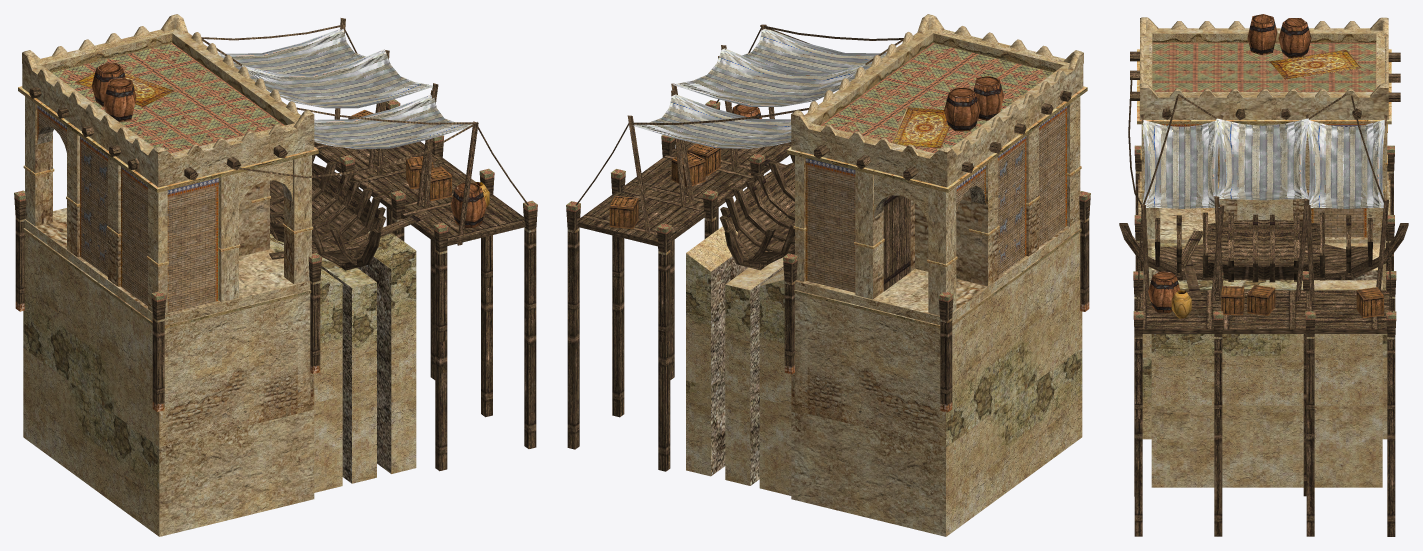
The model's file is pers_dock.glb.
3 renders of one model, left to right at view 1: azimuth 30°, elevation 25°; view 2: azimuth 150°, elevation 25°; view 3: azimuth 270°, elevation 25°, orthographic. The views are drawn at different scales.
Size of the model in its own units: 21.6 by 21.4 by 15.43.
Materials: 1 (1 with a texture image).
